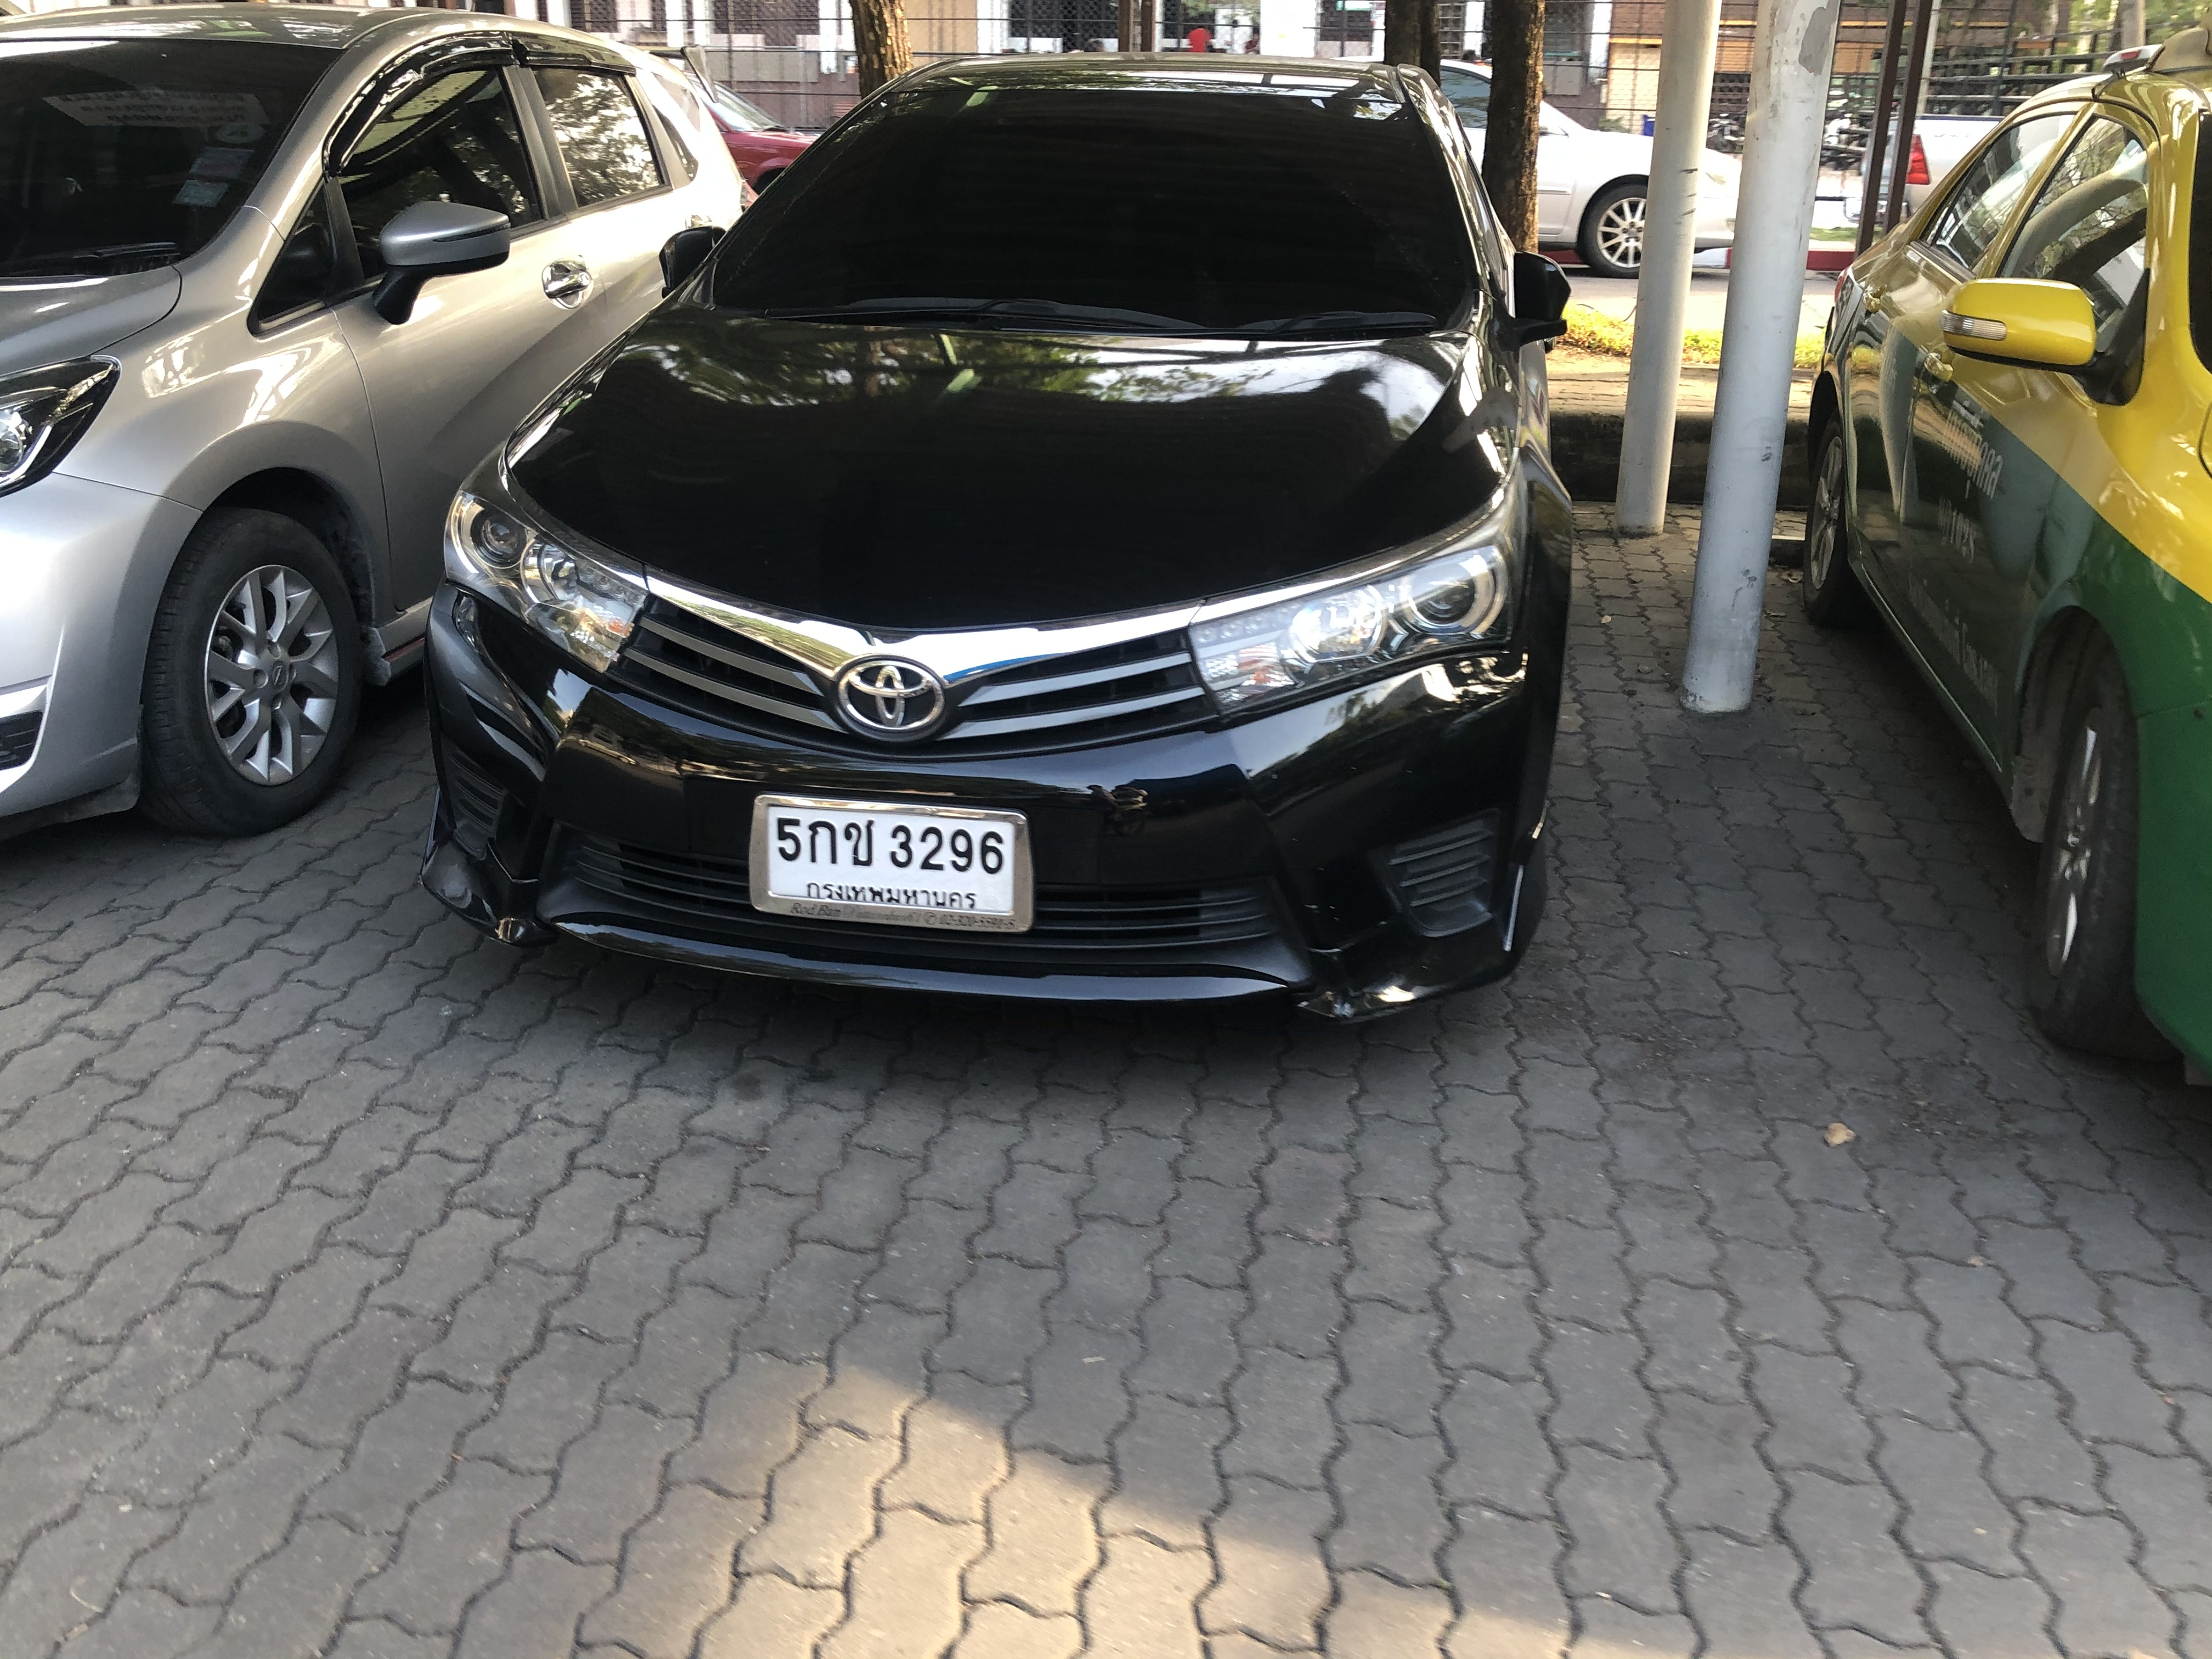in: (768, 805, 1014, 918)
out: (744, 795, 1038, 936)
